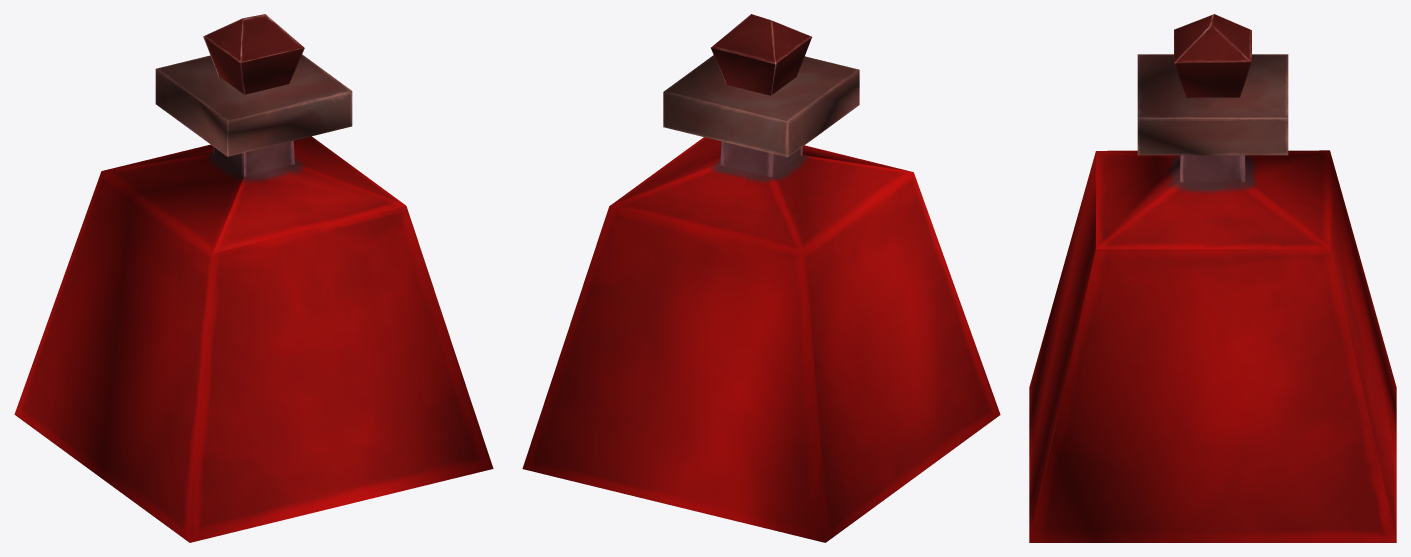
The model's file is Healthpot.fbx.
The picture shows the model from 3 angles, left to right: view 1: azimuth 30°, elevation 25°; view 2: azimuth 150°, elevation 25°; view 3: azimuth 270°, elevation 25°; orthographic projection. The views are drawn at different scales.
Parts seen in each view (by area): view 1: Cube; view 2: Cube; view 3: Cube.
Boxes of the visible parts, bbox=[...] form: Cube: bbox=[14, 14, 493, 542]; Cube: bbox=[522, 14, 1000, 542]; Cube: bbox=[1029, 14, 1396, 542].
Size of the model in its own units: 36.3 by 48.61 by 36.3.
1 material, 1 textured.
